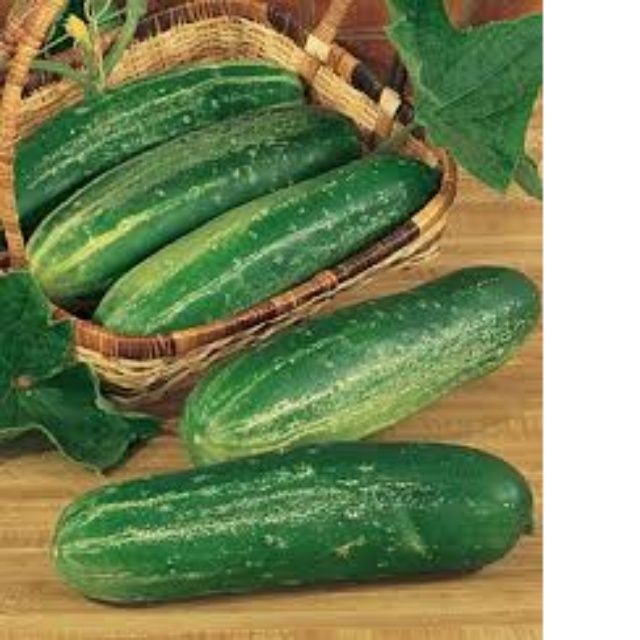dua_leo: (47, 438, 534, 607), (177, 265, 540, 470), (21, 104, 365, 300)
